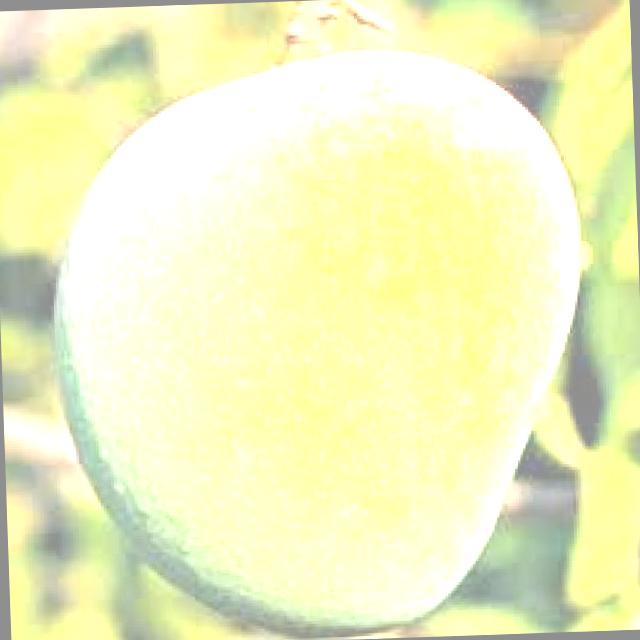Mango: (44, 42, 587, 640)
